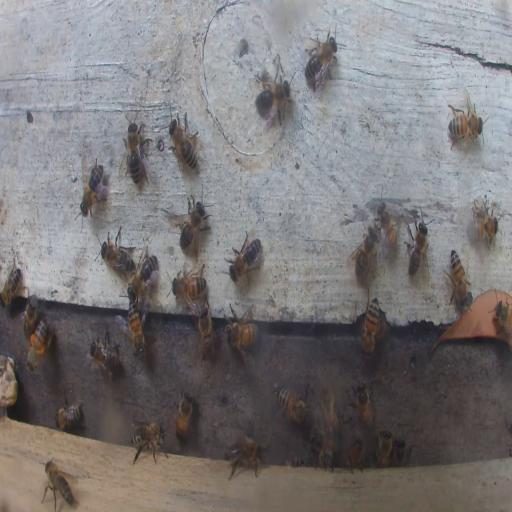nonpollenbee: (176, 190, 213, 256), (254, 65, 294, 124), (304, 29, 340, 93), (227, 229, 262, 286), (168, 110, 199, 174), (120, 118, 149, 186), (79, 157, 109, 218), (224, 435, 264, 480), (42, 457, 75, 511), (404, 208, 429, 279), (98, 226, 132, 277), (88, 329, 120, 382), (130, 421, 169, 464), (446, 249, 472, 308), (350, 226, 379, 278), (128, 250, 157, 302), (276, 386, 310, 427), (376, 196, 399, 254), (224, 310, 258, 348), (127, 302, 148, 362), (471, 199, 499, 242), (360, 296, 380, 356), (172, 267, 206, 302), (447, 109, 484, 140), (318, 386, 340, 438), (174, 389, 194, 441), (1, 262, 23, 308), (198, 302, 214, 361), (354, 380, 373, 427), (54, 403, 83, 431), (309, 426, 332, 461), (491, 300, 511, 340), (375, 428, 393, 466), (346, 437, 363, 472), (24, 295, 37, 335), (315, 438, 332, 468), (394, 438, 412, 465)
pollenbee: (24, 315, 53, 372)
